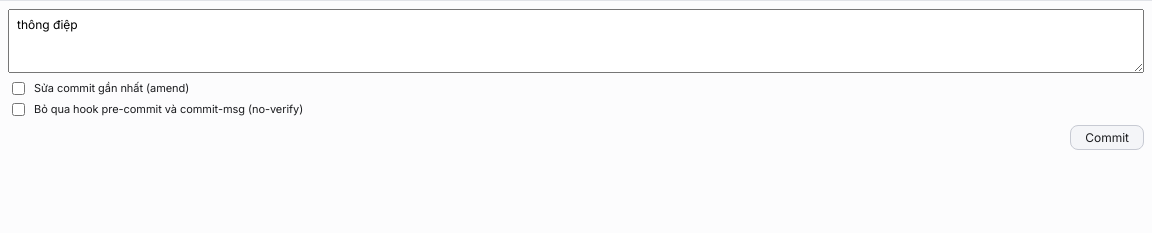
Scenario: 🔴 hook từ chối (M5, M6) › hiện NGUYÊN VĂN đầu ra hook trên màn hình
What coordinates should you click on to do the following:
click the button with test id "commit-button"
I would click on:
 (1107, 138)
Its box is [1070,125,1144,150].
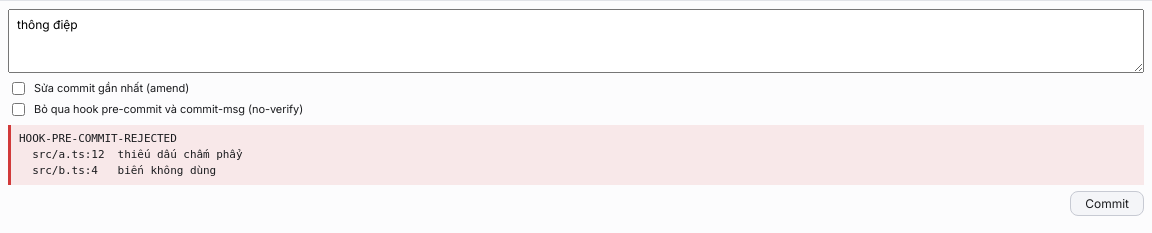
Expected: the message with test id "commit-hook-error" shows "HOOK-PRE-COMMIT-REJECTED", [19,132,242,177]
Expected: the message with test id "commit-hook-error" shows "src/b.ts:4", [19,132,242,177]
